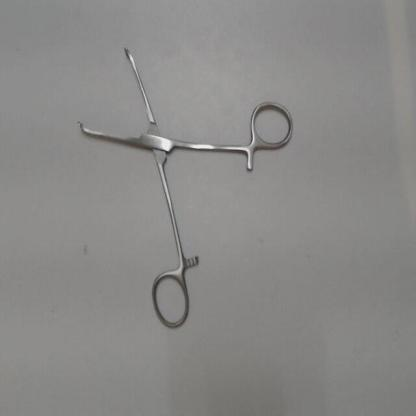Allis Tissue Forceps: (70, 31, 296, 336)
